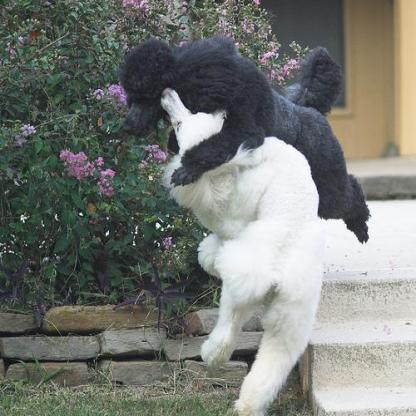standard_poodle: (156, 84, 324, 413), (119, 37, 370, 241)
